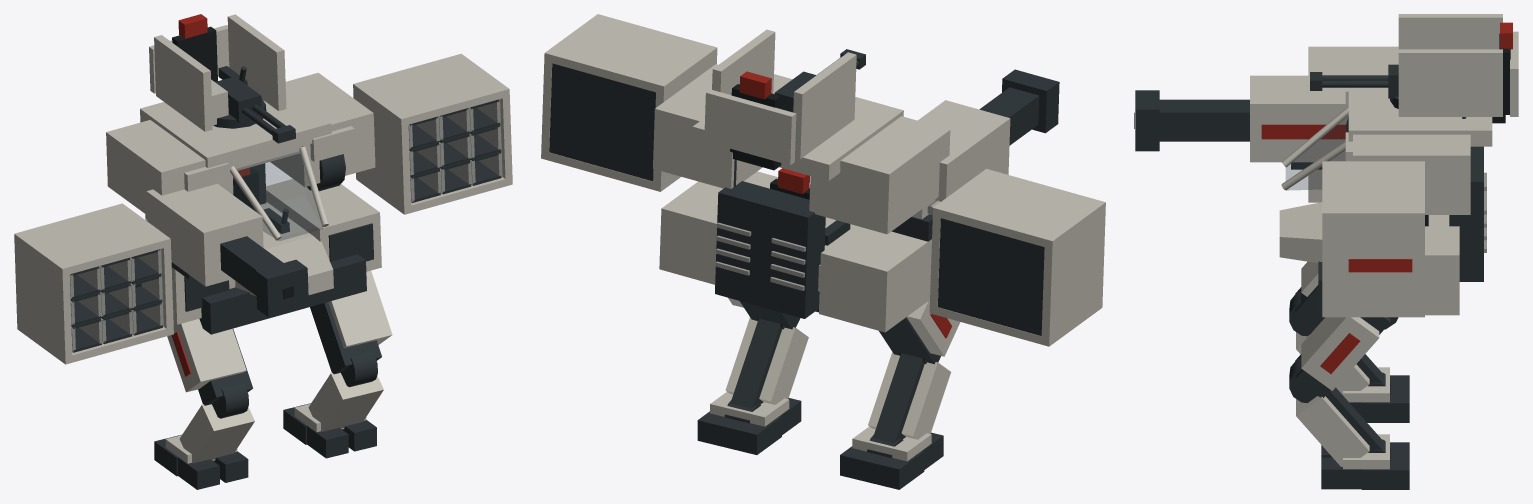
3 renders of one model, left to right at view 1: azimuth 30°, elevation 25°; view 2: azimuth 150°, elevation 25°; view 3: azimuth 270°, elevation 25°, orthographic. The views are drawn at different scales.
Visible parts, largest first — view 1: mech-torso-painted, mech-silo-left-lower-painted, mech-silo-right-painted, mech-cannon-recoil-painted, mech-mg-yaw-roof-painted, mech-torso-glazing, mech-hip-1-painted, mech-hip-0-painted, mech-knee-0-painted, mech-knee-1-painted, mech-ankle-0-painted, mech-ankle-1-painted (+3 smaller); view 2: mech-torso-painted, mech-silo-left-lower-painted, mech-silo-right-painted, mech-mg-yaw-roof-painted, mech-cannon-recoil-painted, mech-knee-1-painted, mech-knee-0-painted, mech-ankle-1-painted, mech-ankle-0-painted, mech-hip-0-painted, mech-seat-gunner-painted, mech-seat-pilot-painted (+3 smaller); view 3: mech-torso-painted, mech-silo-right-painted, mech-cannon-recoil-painted, mech-mg-yaw-roof-painted, mech-hip-1-painted, mech-knee-1-painted, mech-ankle-1-painted, mech-ankle-0-painted, mech-silo-left-lower-painted, mech-torso-glazing, mech-knee-0-painted, mech-mg-pitch-roof-painted (+2 smaller).
Part boxes in pixels (x1,y1,x2,y2): mech-torso-painted: (106, 72, 381, 334); mech-silo-left-lower-painted: (14, 203, 173, 364); mech-silo-right-painted: (353, 53, 512, 214); mech-cannon-recoil-painted: (145, 183, 308, 317); mech-mg-yaw-roof-painted: (149, 14, 286, 131); mech-torso-glazing: (234, 151, 322, 240); mech-hip-1-painted: (310, 270, 392, 374); mech-hip-0-painted: (167, 319, 253, 405); mech-knee-0-painted: (179, 383, 254, 463); mech-knee-1-painted: (308, 351, 383, 431); mech-ankle-0-painted: (154, 434, 248, 489); mech-ankle-1-painted: (283, 403, 376, 458); mech-torso-painted: (653, 64, 950, 332); mech-silo-left-lower-painted: (929, 169, 1105, 346); mech-silo-right-painted: (541, 14, 717, 191); mech-mg-yaw-roof-painted: (704, 29, 856, 165); mech-cannon-recoil-painted: (912, 69, 1059, 219); mech-knee-1-painted: (725, 317, 808, 408); mech-knee-0-painted: (868, 352, 951, 443); mech-ankle-1-painted: (697, 392, 801, 454); mech-ankle-0-painted: (840, 426, 943, 489); mech-hip-0-painted: (879, 300, 960, 363); mech-seat-gunner-painted: (730, 71, 781, 170); mech-seat-pilot-painted: (770, 168, 850, 245); mech-torso-painted: (1279, 53, 1492, 315); mech-silo-right-painted: (1322, 161, 1424, 317); mech-cannon-recoil-painted: (1134, 75, 1348, 162); mech-mg-yaw-roof-painted: (1390, 14, 1518, 116); mech-hip-1-painted: (1295, 317, 1398, 397); mech-knee-1-painted: (1289, 358, 1382, 466); mech-ankle-1-painted: (1321, 434, 1409, 489); mech-ankle-0-painted: (1343, 367, 1409, 422); mech-silo-left-lower-painted: (1308, 46, 1398, 202); mech-torso-glazing: (1286, 113, 1348, 190); mech-knee-0-painted: (1289, 291, 1382, 394); mech-mg-pitch-roof-painted: (1310, 64, 1398, 98).
Bounding box in the file's own units: 37.75 × 30.55 × 25.88.
